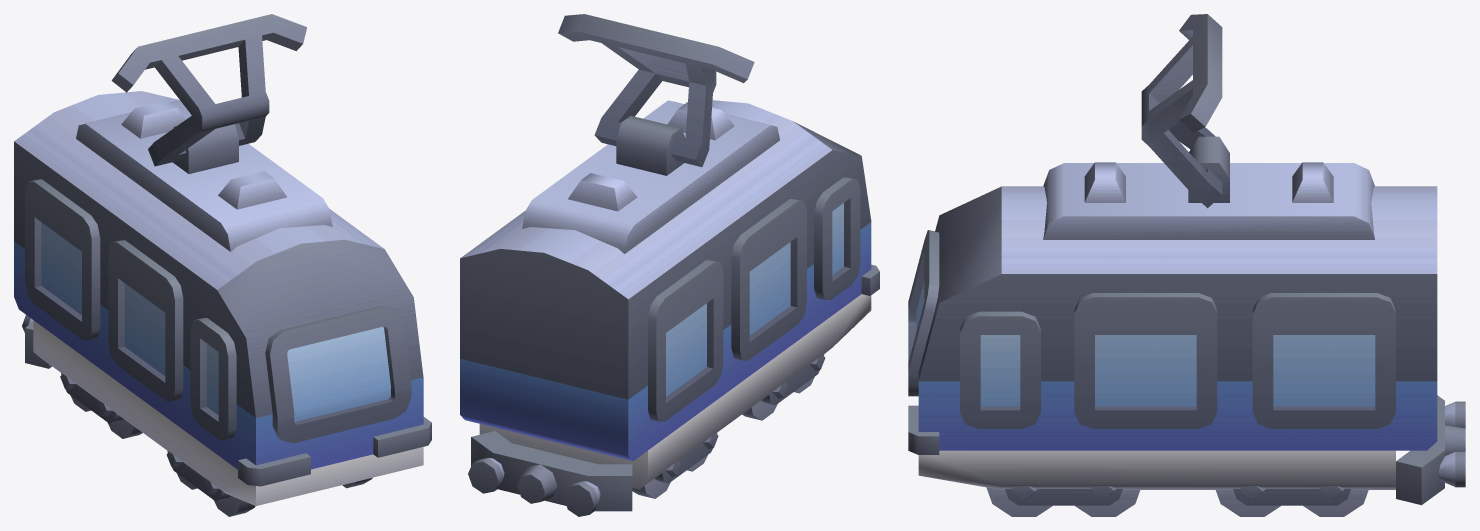
The model's file is tram.glb.
The picture shows the model from 3 angles, left to right: view 1: azimuth 30°, elevation 25°; view 2: azimuth 150°, elevation 25°; view 3: azimuth 270°, elevation 25°; orthographic projection. The views are drawn at different scales.
Parts seen in each view (by area): view 1: collector; view 2: collector; view 3: collector.
Part boxes in pixels (x1,y1,x2,y2): collector: (14,14,431,516); collector: (460,14,879,516); collector: (908,14,1465,516).
Bounding box in the file's own units: 1.35 × 2.76 × 3.22.
Materials: 1 (1 with a texture image).
